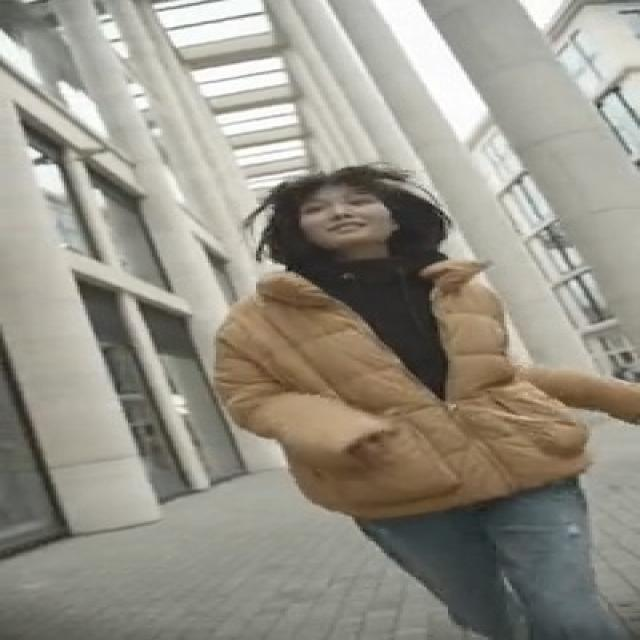Jacket_Wearer: (188, 263, 640, 498)
Person: (194, 168, 640, 639)
